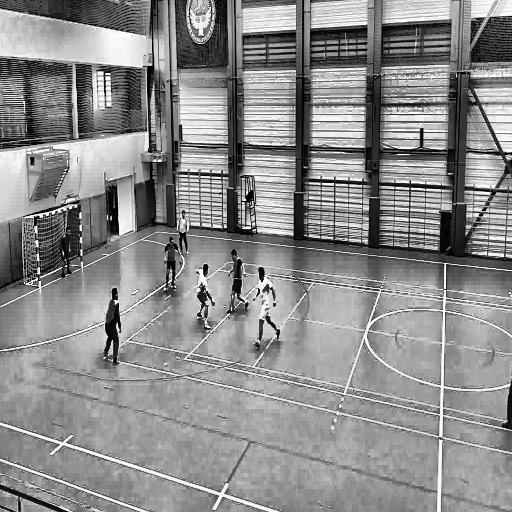ball: (231, 304, 236, 312)
player: (251, 265, 281, 349), (101, 287, 122, 368), (225, 249, 248, 317), (194, 263, 216, 331), (501, 320, 512, 437), (162, 236, 184, 293), (59, 226, 74, 281), (176, 206, 190, 256)
